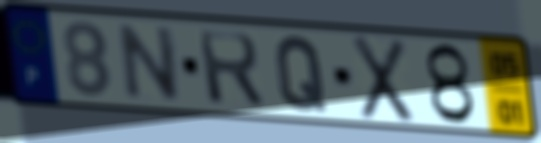8: (60, 19, 116, 100), (424, 41, 477, 126)
N: (117, 21, 183, 104)
Q: (272, 33, 329, 114)
R: (194, 28, 268, 111)
X: (349, 32, 416, 126)
